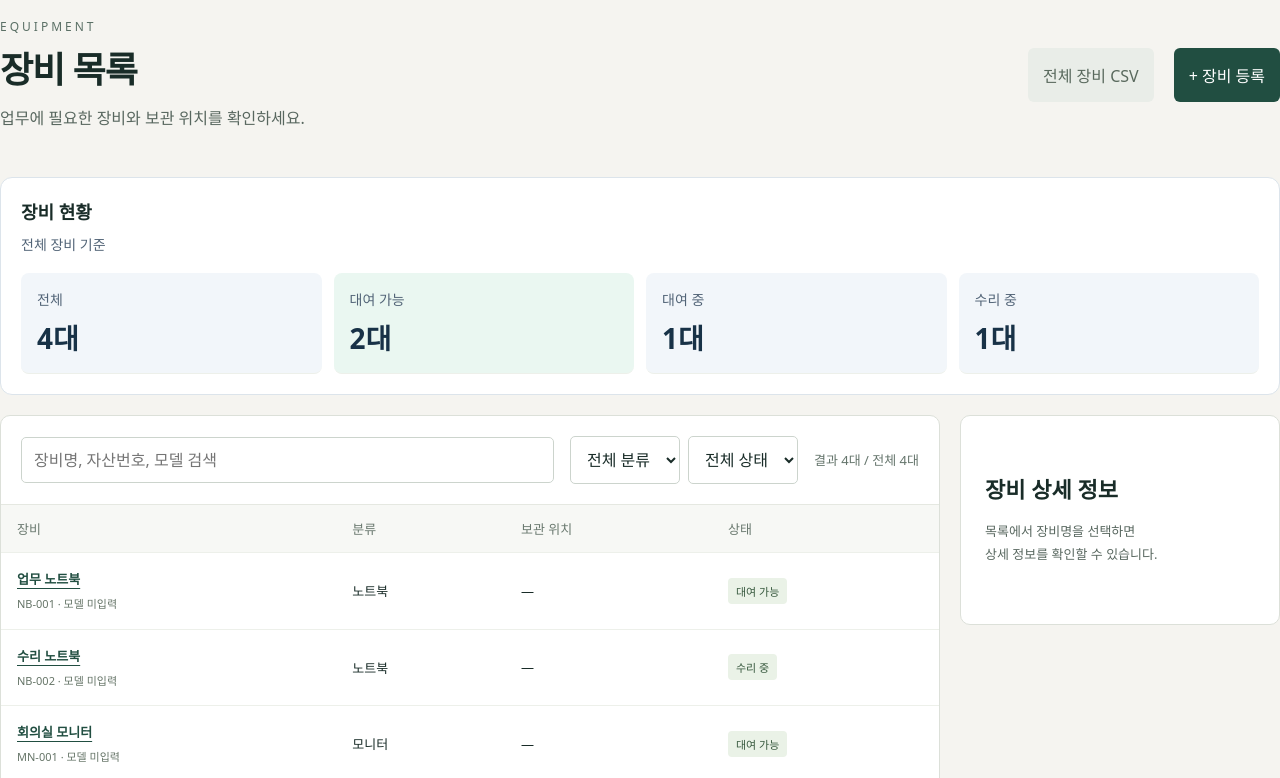
Test: a chosen category that disappears after an edit no longer hides the list
Select "미분류" in the 1st dropdown named "분류 필터": (625, 460) x1=570 y1=436 x2=680 y2=484
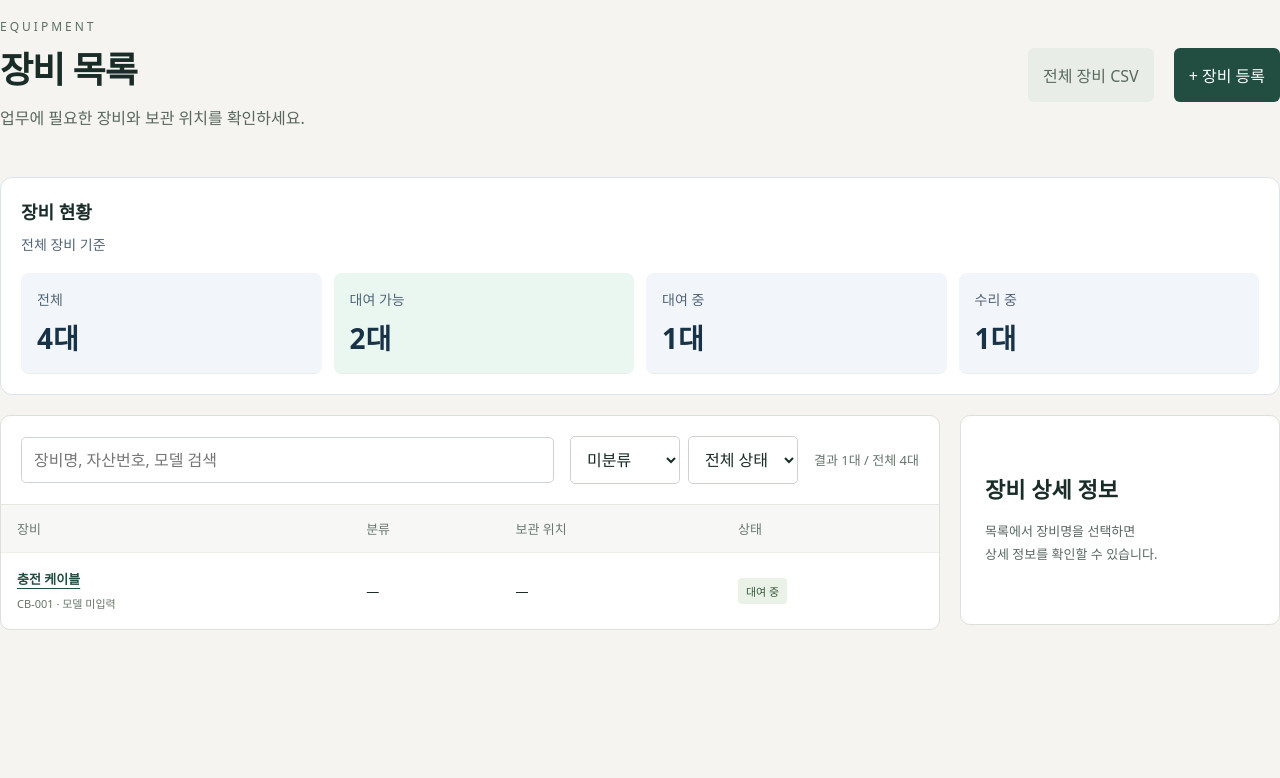
Click the button "충전 케이블": (49, 578) x1=17 y1=569 x2=80 y2=588
(page scrolled)
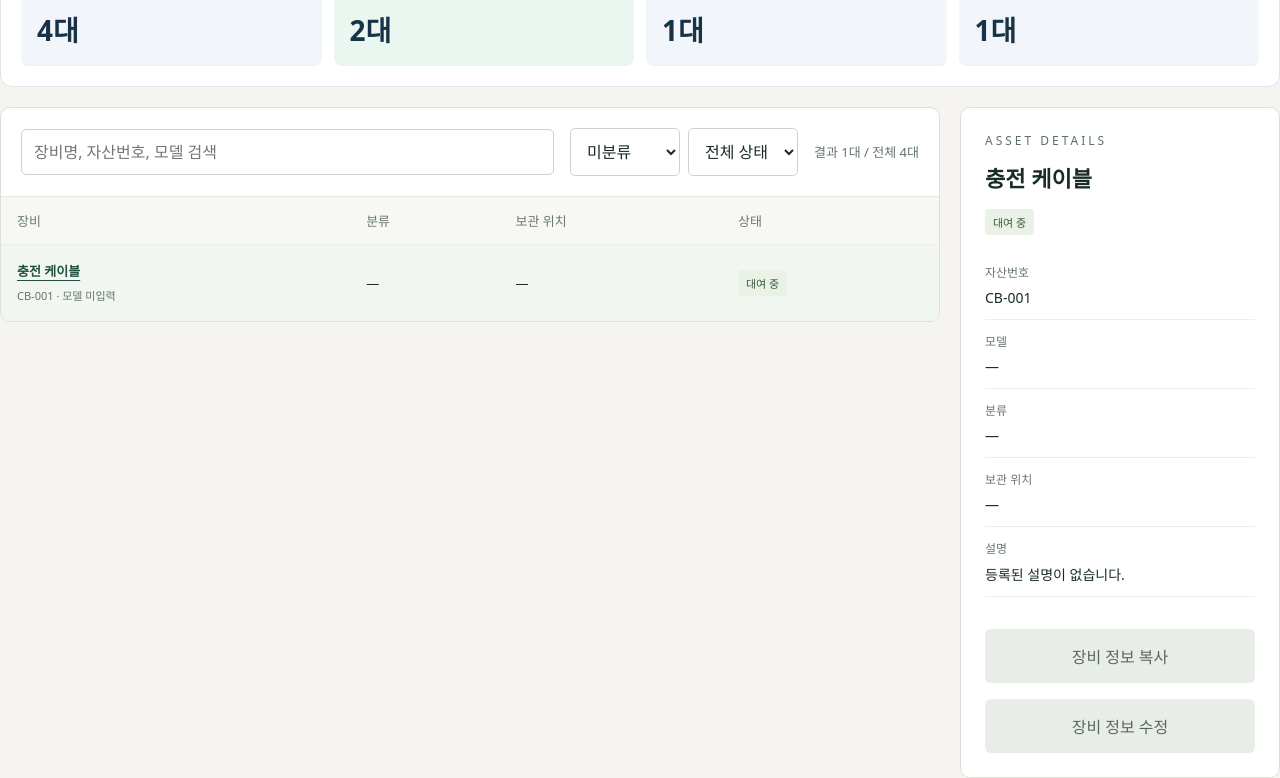
Click the button "장비 정보 수정": (1120, 726) x1=985 y1=699 x2=1255 y2=753
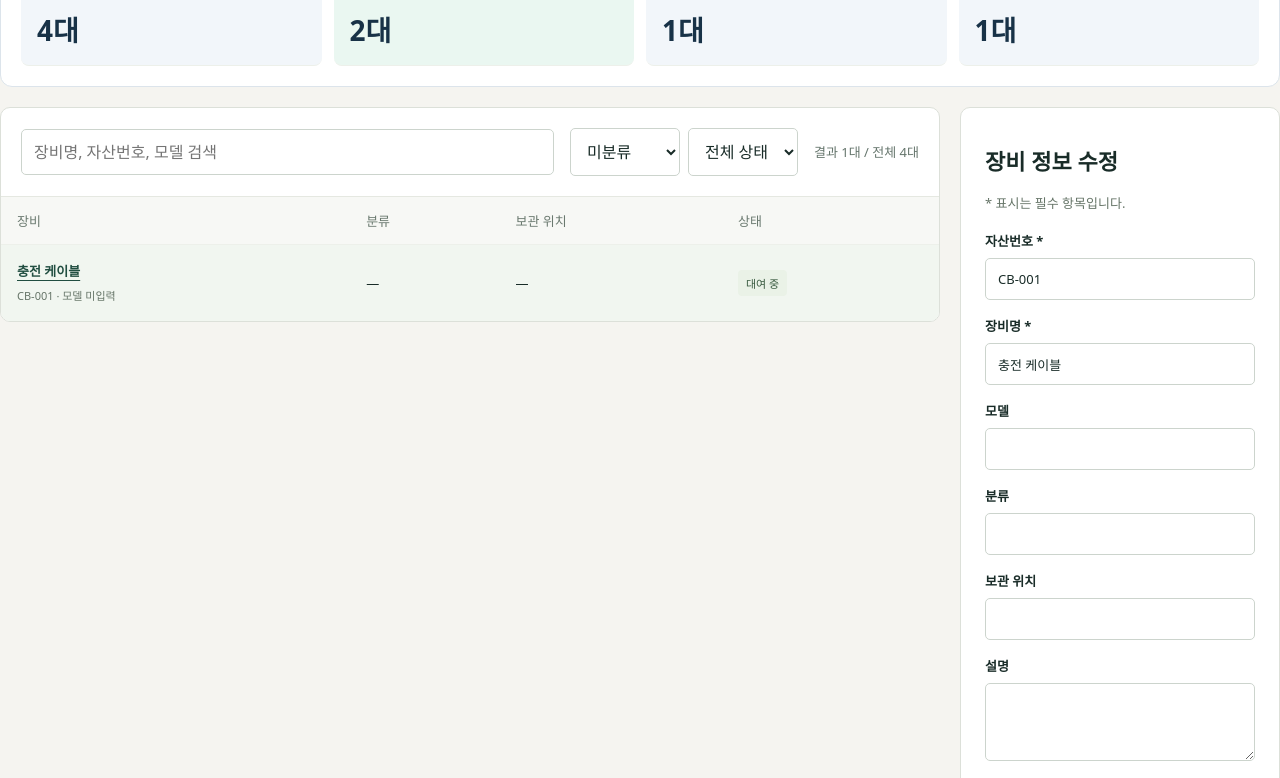
In the field labelled "분류": (1120, 534) x1=985 y1=513 x2=1255 y2=555, type "케이블"
(page scrolled)
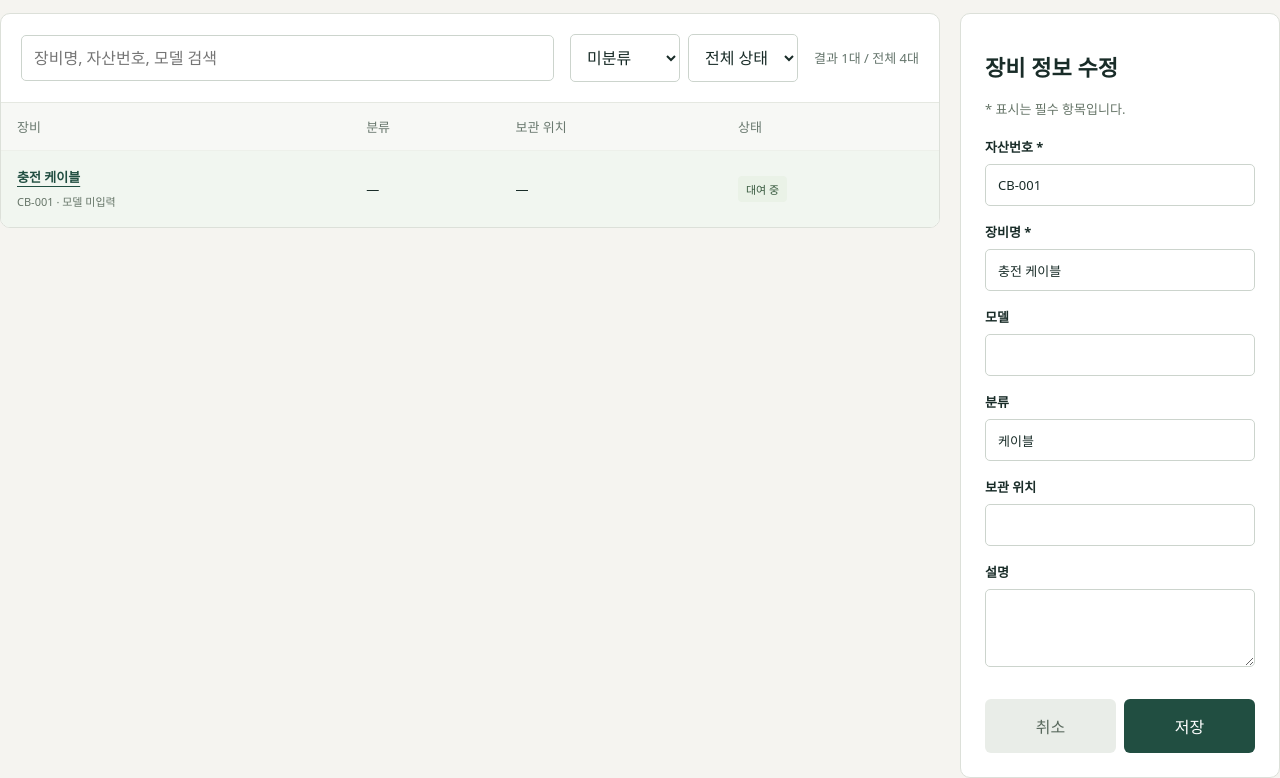
Click the button "저장": (1190, 726) x1=1124 y1=699 x2=1255 y2=753
(page scrolled)
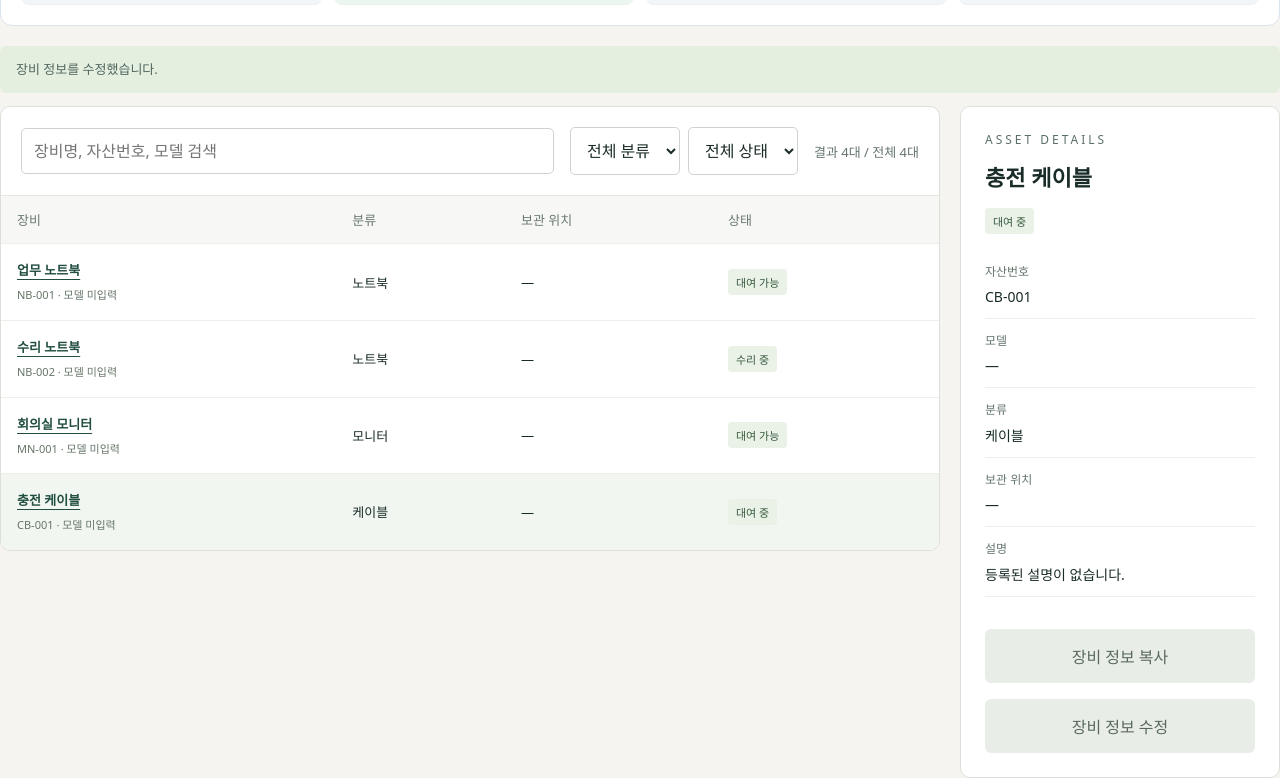
Check: the text "장비 정보를 수정했습니다." is shown, box x1=0 y1=46 x2=1279 y2=93
Check: the text "결과 4대 / 전체 4대" is shown, box x1=814 y1=142 x2=919 y2=161
